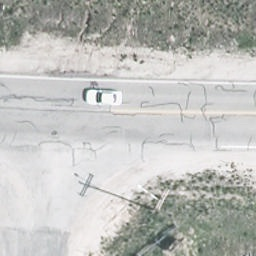car: (84, 90, 124, 106)
